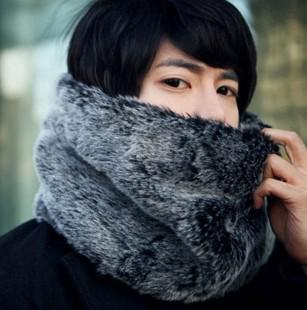WRONG: (138, 54, 251, 180)
